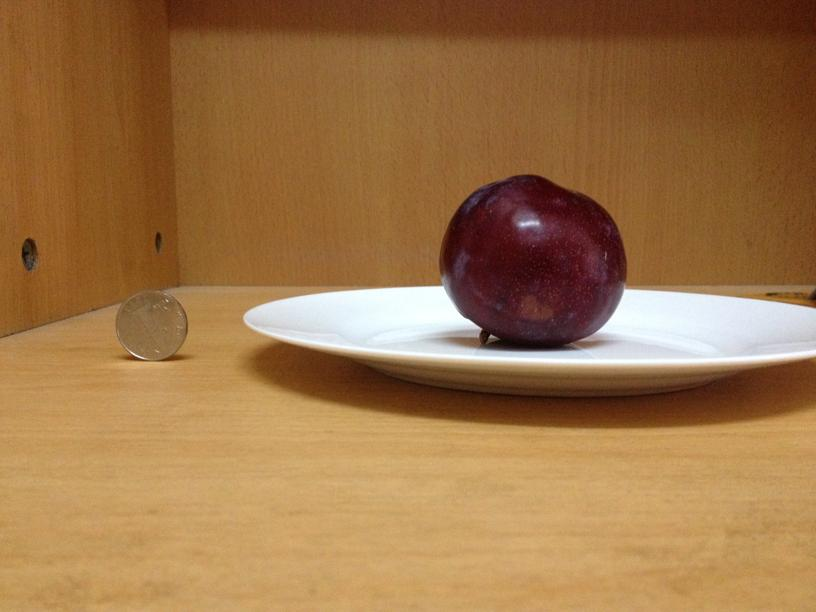coin: (116, 290, 190, 362)
plum: (436, 180, 624, 342)
